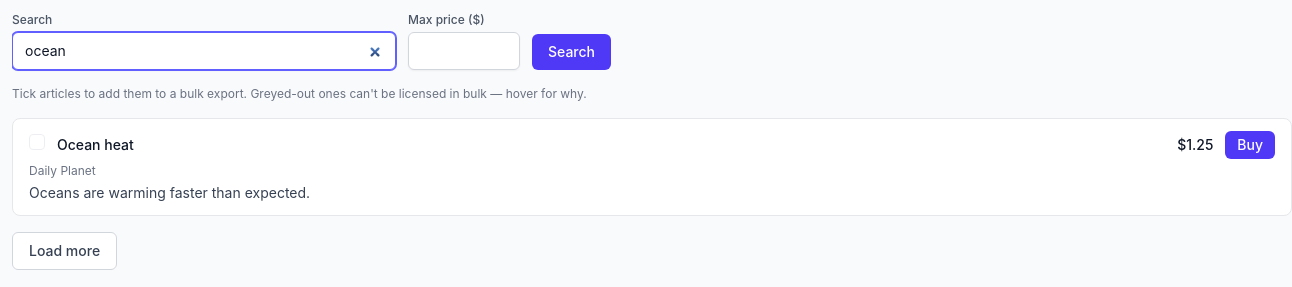
Test: ContentSearch › a 422 on Load more says the search expired and resets to page one
The width and height of the screenshot is (1292, 287).
Step 1. Click the button "Load more" → (65, 251), box left=12, top=232, right=117, bottom=270
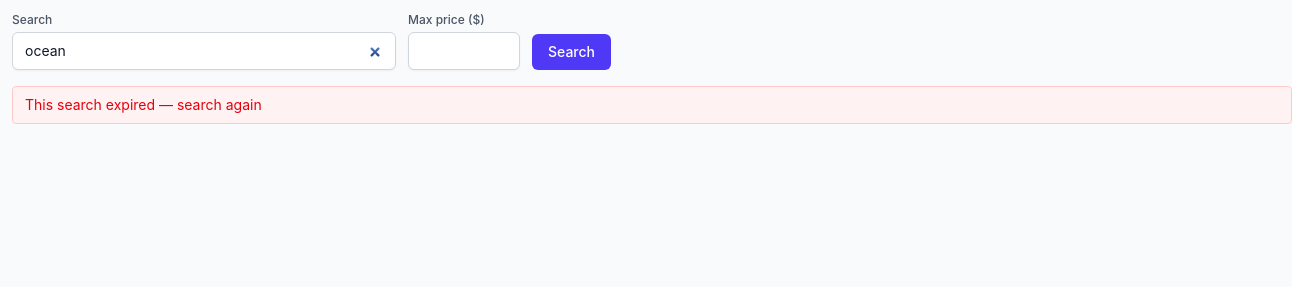
Result: the text "This search expired — search again" is shown at left=12, top=86, right=1291, bottom=124
Result: the button "Load more" is gone
Result: the text "Ocean heat" is gone
